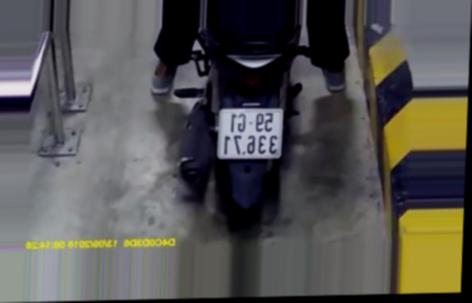License_Plate: (213, 104, 290, 163)
